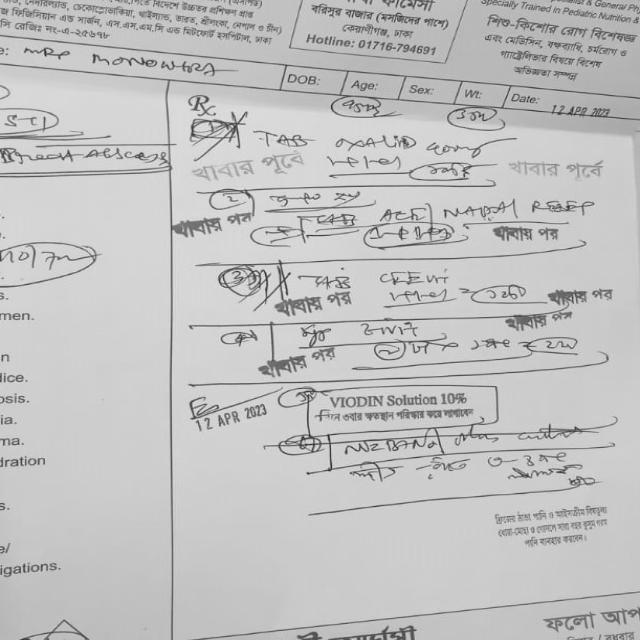medicine: (332, 129, 424, 154), (373, 267, 460, 290), (352, 321, 424, 340), (376, 204, 434, 224)
